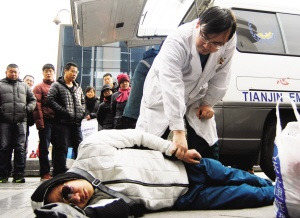falling: (26, 122, 280, 216)
